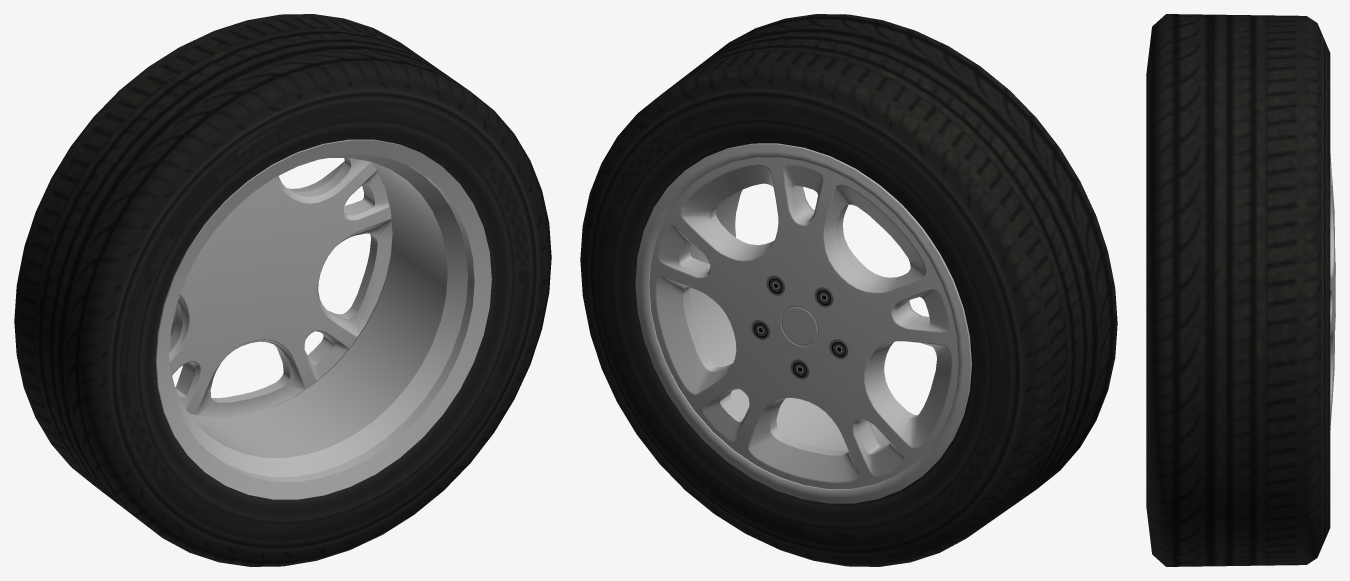
3 views of the same model, side by side, from view 1: azimuth 30°, elevation 25°; view 2: azimuth 150°, elevation 25°; view 3: azimuth 270°, elevation 25° (orthographic).
Parts seen in each view (by area): view 1: P353_20_901C_L_P353_20_901C_L_1_DM, P353_20_901C_L_P353_20_901C_L_2_DaS; view 2: P353_20_901C_L_P353_20_901C_L_1_DM, P353_20_901C_L_P353_20_901C_L_2_DaS, P353_20_901C_L_3_D_P353_20_901C_L; view 3: P353_20_901C_L_P353_20_901C_L_1_DM, P353_20_901C_L_P353_20_901C_L_2_DaS.
Part boxes in pixels (bbox=[...]): P353_20_901C_L_P353_20_901C_L_1_DM: bbox=[14, 14, 551, 566]; P353_20_901C_L_P353_20_901C_L_2_DaS: bbox=[155, 139, 491, 499]; P353_20_901C_L_P353_20_901C_L_1_DM: bbox=[580, 14, 1117, 566]; P353_20_901C_L_P353_20_901C_L_2_DaS: bbox=[635, 143, 971, 503]; P353_20_901C_L_3_D_P353_20_901C_L: bbox=[751, 275, 848, 379]; P353_20_901C_L_P353_20_901C_L_1_DM: bbox=[1146, 14, 1330, 566]; P353_20_901C_L_P353_20_901C_L_2_DaS: bbox=[1330, 153, 1335, 429].
Size of the model in its own units: 70.07 by 70.07 by 23.98.
